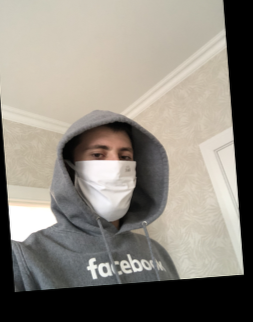with_mask: (75, 138, 138, 224)
